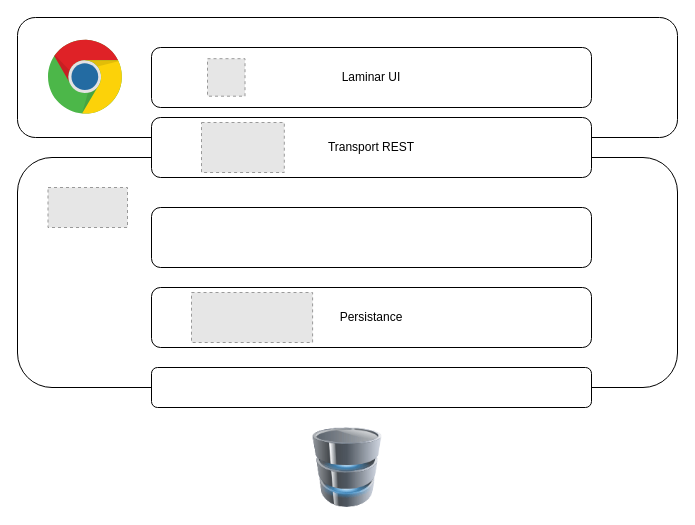
This 695x525 diagram has some shape labels left out. Grey dashed boxes stand in for pictures. Here are the shapes that lost their labels. From the top down, the centre of each, then its label:
At (x=371, y=237): "Business".
At (x=371, y=387): "JDBC Driver".
